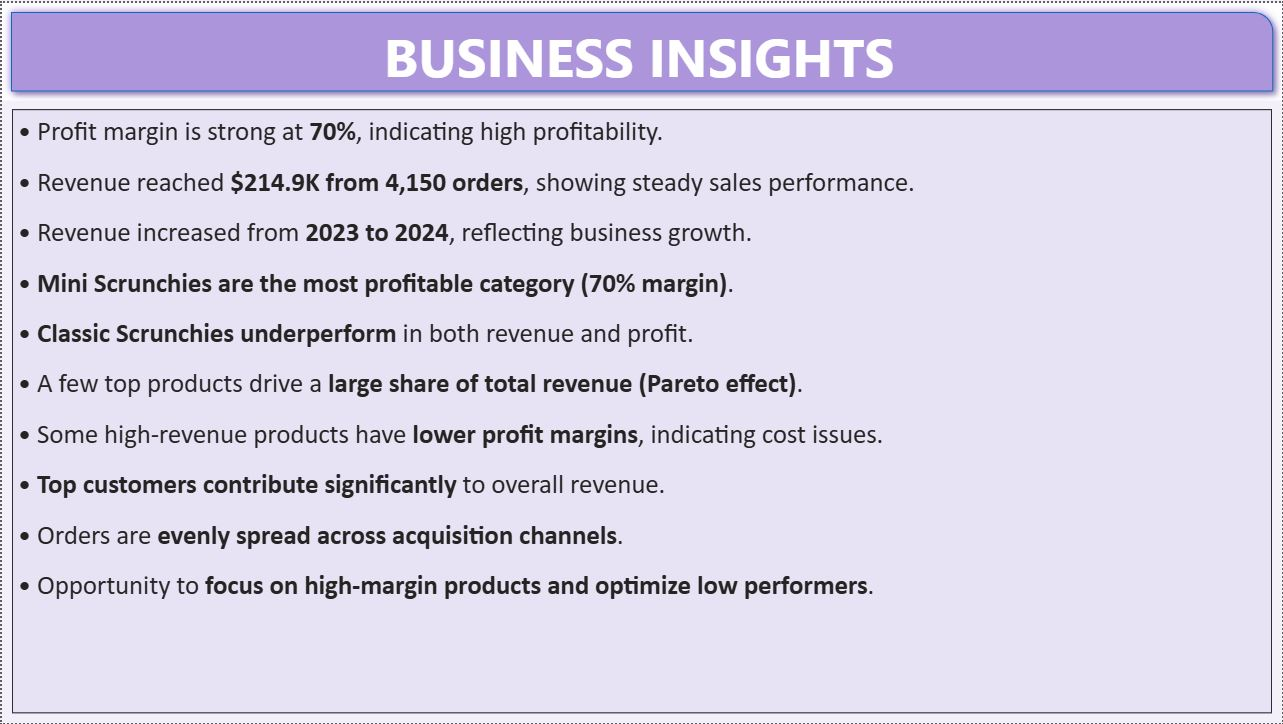

The page's visual inventory and layout, read from the dashboard file:
{"tool":"powerbi","page":{"name":"02_Business Insights ","canvas":[1280,720],"ordinal":1},"visuals":[{"type":"shape","box":[0,0,1280.3,97.4],"z":0},{"type":"textbox","box":[10,106.2,1260,603.8],"z":1}]}

Visuals, with their boxes in screenshot pixels (x1, y1, x2, y2), scaled from the page's 1280x720 canvas onto the 1283x724 screenshot:
shape: detection(0, 0, 1282, 98)
textbox: detection(10, 107, 1273, 714)
